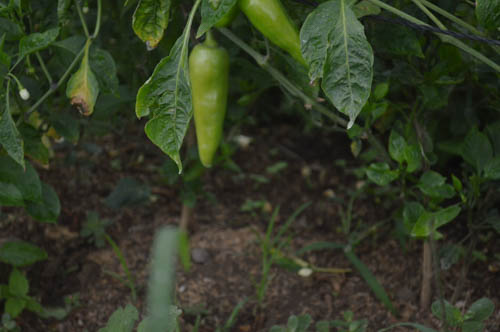ChiliPepper: (184, 40, 234, 175), (240, 1, 319, 71)
